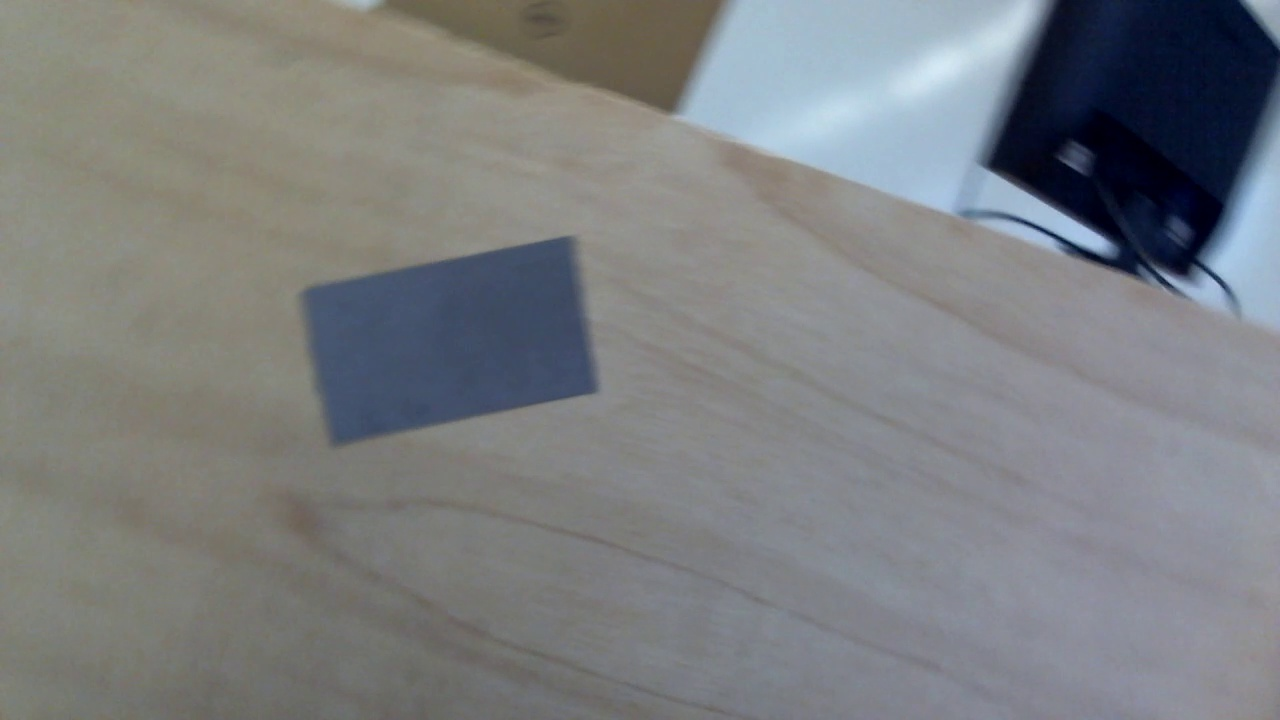Tape: (299, 235, 604, 450)
